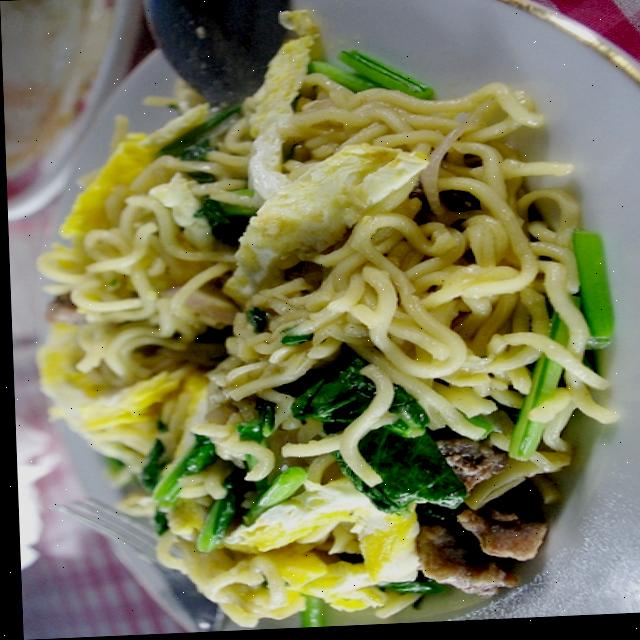面条主食: (2, 0, 637, 634)
